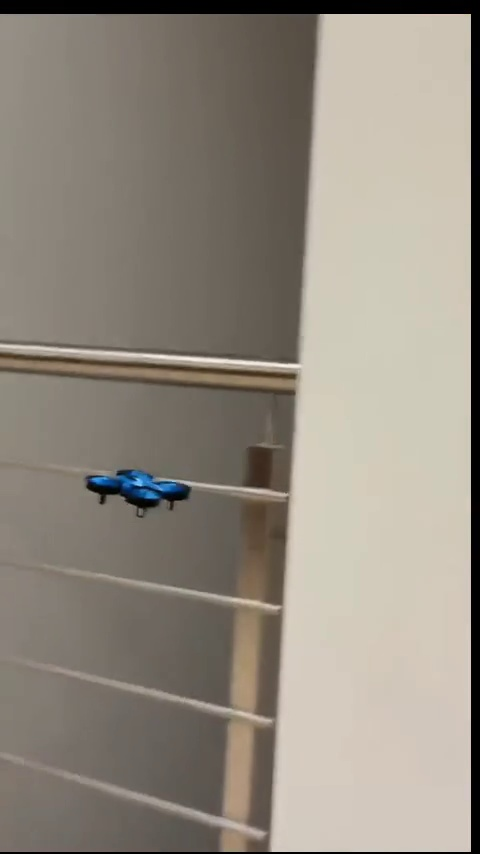drone: (91, 466, 192, 515)
